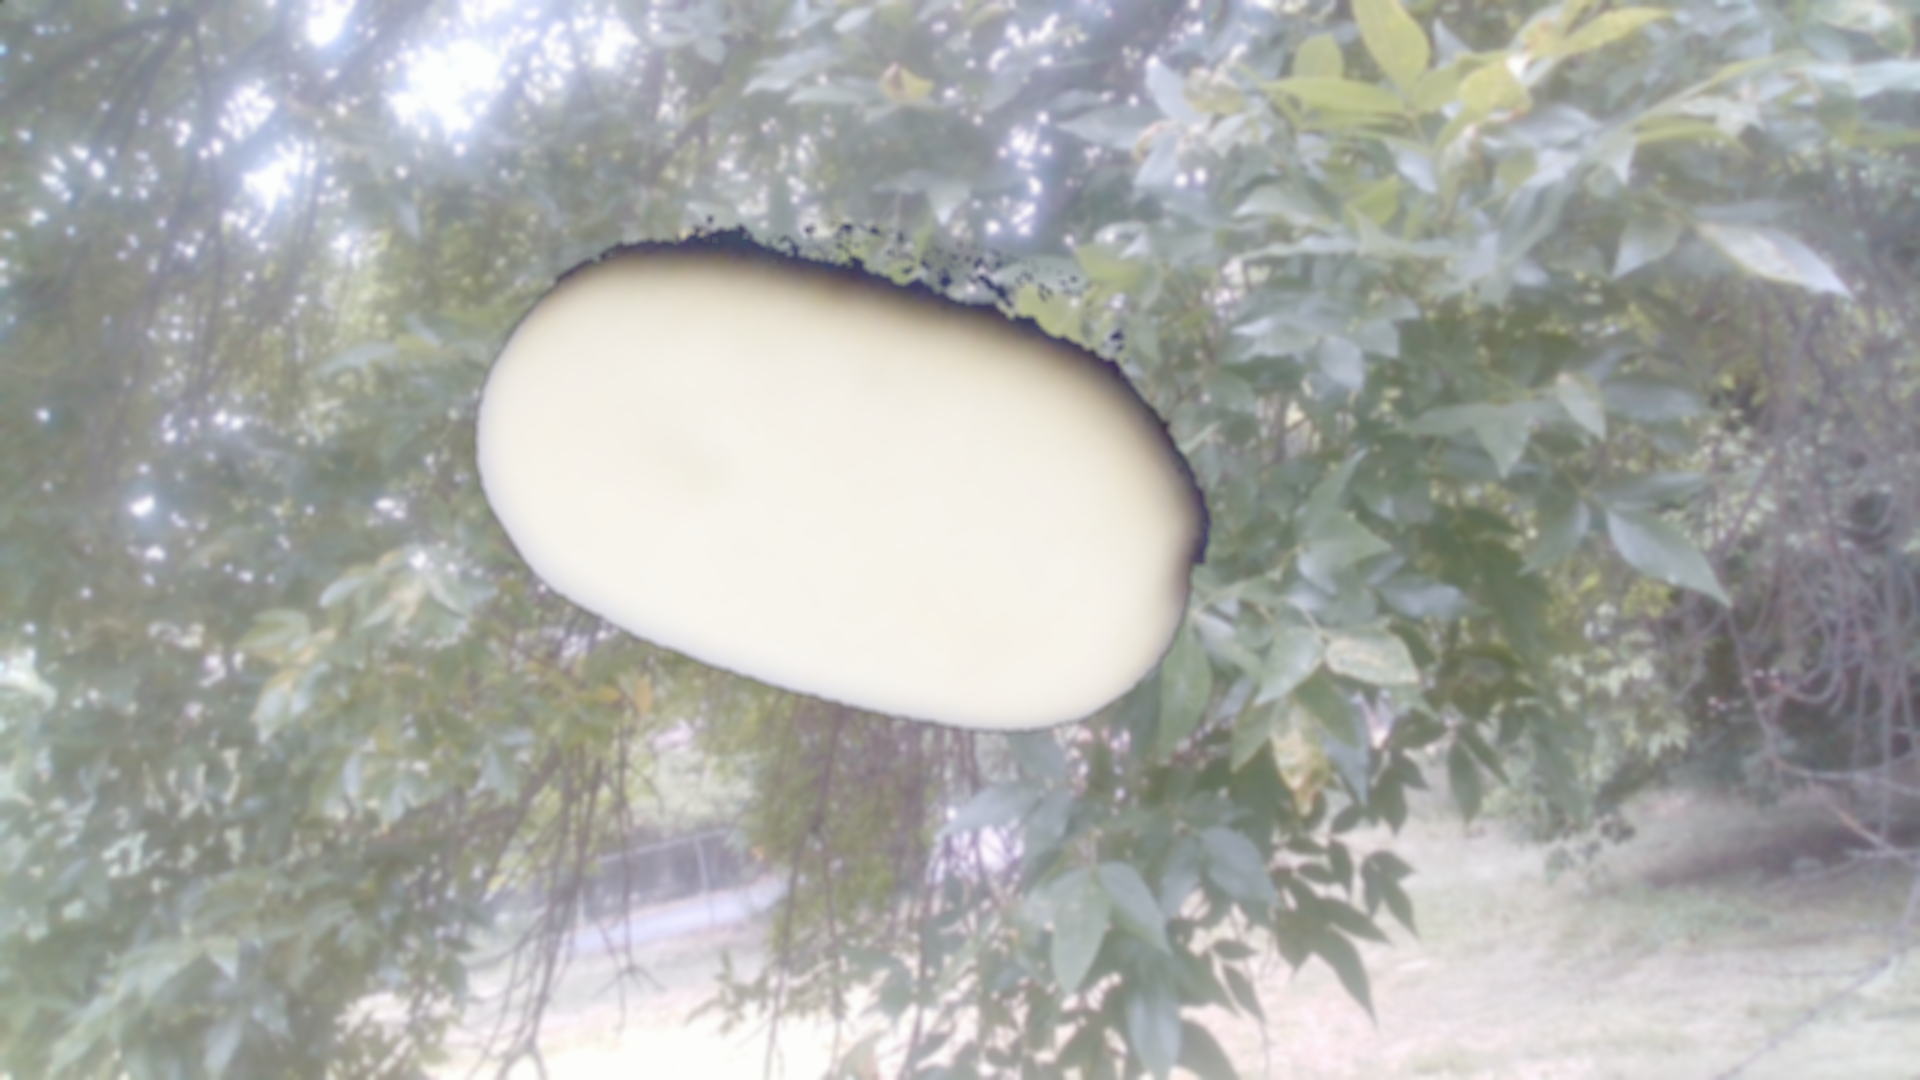test: (401, 32, 1291, 930)
